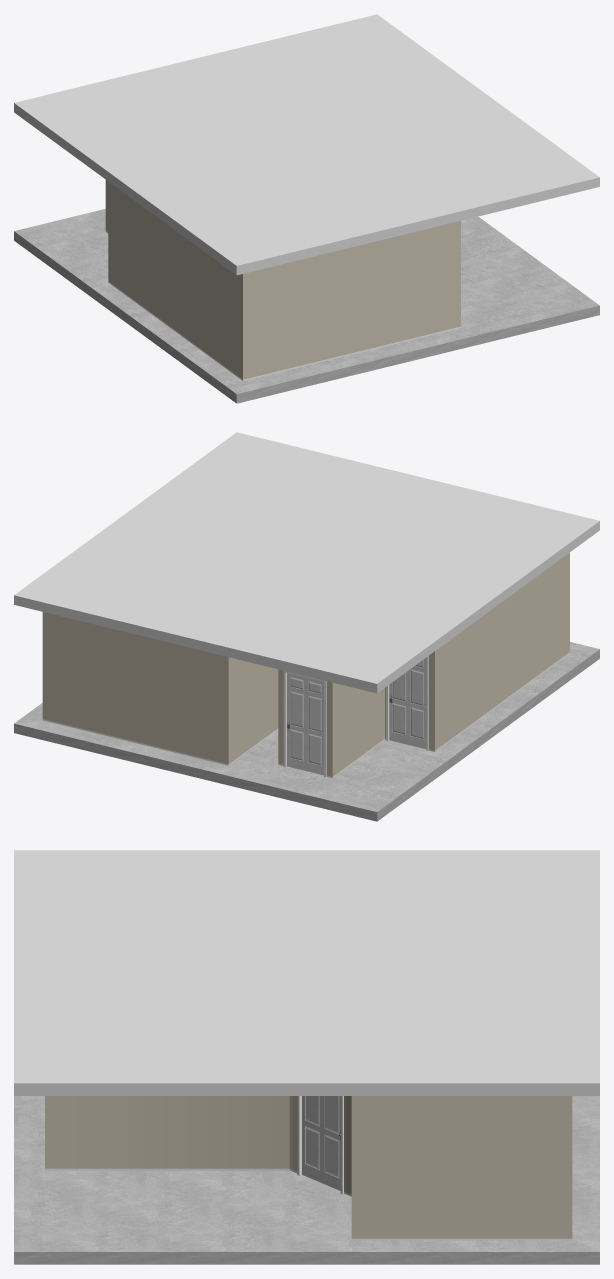
File: FloorPlan208_physics.fbx
3 views of the same model, one above another, from view 1: azimuth 30°, elevation 25°; view 2: azimuth 150°, elevation 25°; view 3: azimuth 270°, elevation 25° (orthographic). The views are drawn at different scales.
Parts seen in each view (by area): view 1: FP208:Ceiling, FP208:StandardWallSize, FP208:Floor; view 2: FP208:Ceiling, FP208:StandardWallSize, FP208:Floor, FP208:StandardDoor1 (×2), FP208:StandardDoorFrame1; view 3: FP208:Ceiling, FP208:StandardWallSize, FP208:Floor, FP208:StandardDoor1, FP208:StandardDoorFrame1.
Boxes of the visible parts, <box> form: FP208:Ceiling: <box>14,14,599,275</box>; FP208:StandardWallSize: <box>105,180,460,380</box>; FP208:Floor: <box>14,209,599,403</box>; FP208:Ceiling: <box>14,432,599,693</box>; FP208:StandardWallSize: <box>42,552,569,778</box>; FP208:Floor: <box>14,642,599,821</box>; FP208:StandardDoor1 (×2): <box>287,658,426,775</box>; FP208:StandardDoorFrame1: <box>283,671,326,777</box>; FP208:Ceiling: <box>14,850,599,1095</box>; FP208:StandardWallSize: <box>45,1096,572,1240</box>; FP208:Floor: <box>14,1096,599,1264</box>; FP208:StandardDoor1: <box>302,1096,340,1190</box>; FP208:StandardDoorFrame1: <box>297,1096,343,1193</box>.
Bounding box in the file's own units: 800 × 290 × 850.
